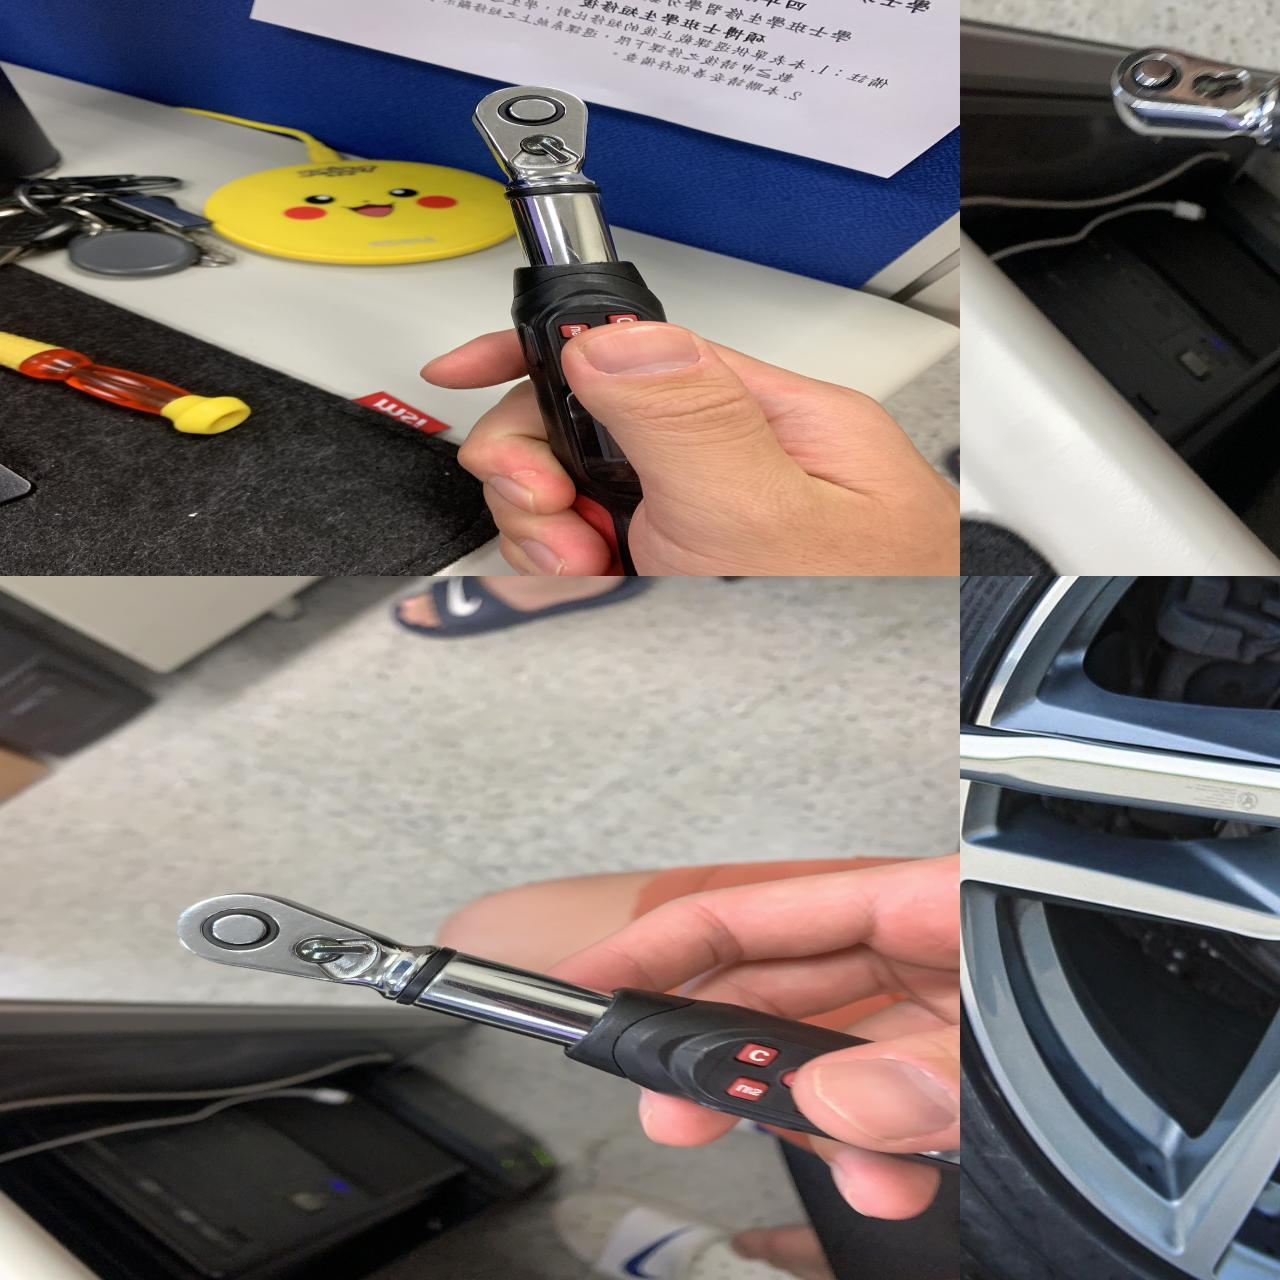Tool: (170, 892, 430, 1000), (1112, 36, 1272, 139), (474, 86, 598, 192)
